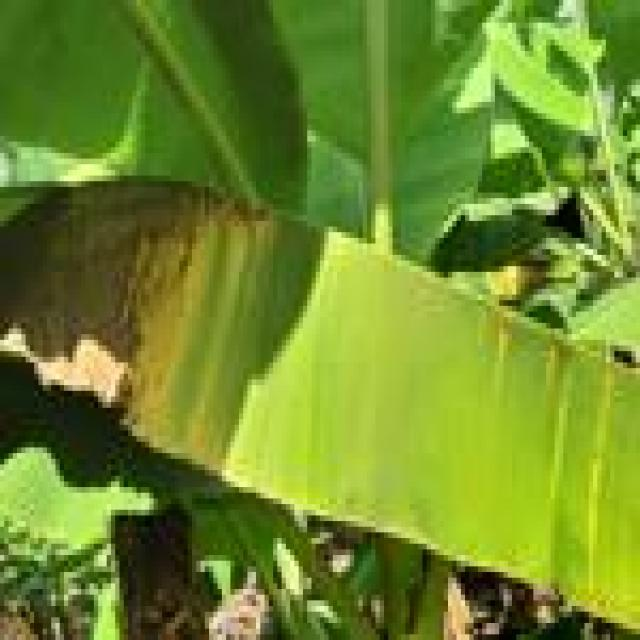Early_rust: (0, 97, 293, 500), (465, 268, 640, 633)
